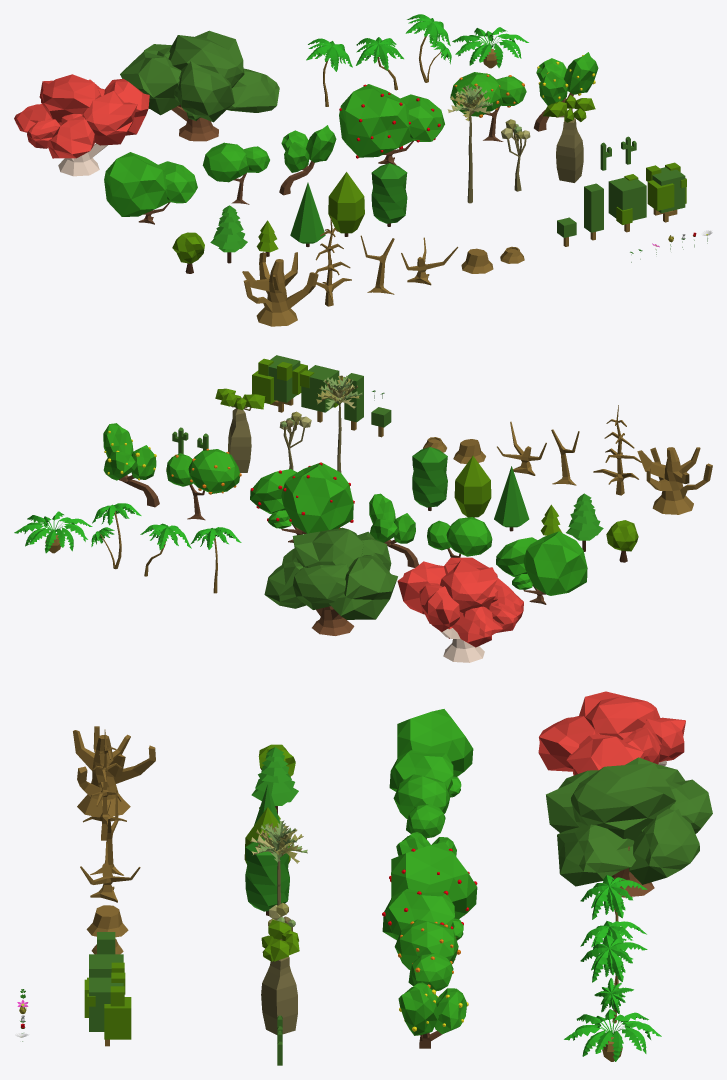
The model's file is Tree+Collection.fbx.
3 renders of one model, top to bottom at view 1: azimuth 30°, elevation 25°; view 2: azimuth 150°, elevation 25°; view 3: azimuth 270°, elevation 25°, orthographic. The views are drawn at different scales.
Visible parts, largest first — view 1: Large Tree 02 (Green), Large Tree 01 (Red), Fruit Tree 01 - Red, Fruitless Tree 01, Dry Tree 01, Fruit Tree 03 - Yellow, Baoba 01, Fruitless Tree 02, Fruit Tree 02 - Orange, Fruitless Tree 03, Casual Tree 06, Block Tree 04 (+16 smaller); view 2: Large Tree 02 (Green), Large Tree 01 (Red), Fruit Tree 01 - Red, Fruitless Tree 01, Fruit Tree 02 - Orange, Dry Tree 01, Fruit Tree 03 - Yellow, Block Tree 04, Fruitless Tree 02, Fruitless Tree 03, Casual Tree 06, Baoba 01 (+16 smaller); view 3: Large Tree 02 (Green), Large Tree 01 (Red), Fruit Tree 01 - Red, Fruitless Tree 01, Baoba 01, Fruit Tree 02 - Orange, Dry Tree 01, Fruit Tree 03 - Yellow, Block Tree 04, Fruitless Tree 02, Casual Tree 06, Palm Tree 04 (+10 smaller).
Boxes of the visible parts, box(x1,y1,x2,y2) form: Large Tree 02 (Green): box(120, 30, 279, 141); Large Tree 01 (Red): box(14, 74, 149, 176); Fruit Tree 01 - Red: box(339, 84, 444, 165); Fruitless Tree 01: box(104, 152, 197, 224); Dry Tree 01: box(242, 252, 318, 326); Fruit Tree 03 - Yellow: box(534, 52, 598, 131); Baoba 01: box(543, 95, 595, 182); Fruitless Tree 02: box(202, 142, 269, 204); Fruit Tree 02 - Orange: box(450, 72, 526, 141); Fruitless Tree 03: box(279, 125, 336, 195); Casual Tree 06: box(371, 163, 407, 226); Block Tree 04: box(646, 162, 686, 222); Large Tree 02 (Green): box(264, 527, 397, 635); Large Tree 01 (Red): box(397, 557, 523, 662); Fruit Tree 01 - Red: box(250, 462, 354, 542); Fruitless Tree 01: box(496, 531, 587, 604); Fruit Tree 02 - Orange: box(166, 448, 241, 520); Dry Tree 01: box(637, 447, 712, 514); Fruit Tree 03 - Yellow: box(103, 423, 159, 507); Block Tree 04: box(252, 355, 307, 412); Fruitless Tree 02: box(427, 517, 492, 557); Fruitless Tree 03: box(369, 493, 418, 567); Casual Tree 06: box(412, 447, 447, 510); Baoba 01: box(215, 388, 265, 472); Large Tree 02 (Green): box(546, 757, 712, 897); Large Tree 01 (Red): box(538, 691, 685, 775); Fruit Tree 01 - Red: box(382, 842, 477, 940); Fruitless Tree 01: box(389, 709, 473, 797); Baoba 01: box(261, 920, 299, 1034); Fruit Tree 02 - Orange: box(394, 919, 460, 991); Dry Tree 01: box(73, 726, 155, 816); Fruit Tree 03 - Yellow: box(398, 982, 468, 1048); Block Tree 04: box(84, 972, 131, 1046); Fruitless Tree 02: box(393, 774, 449, 839); Casual Tree 06: box(245, 835, 289, 915); Palm Tree 04: box(564, 1009, 661, 1061).
Bounding box in the file's own units: 3203 × 703 × 3128.
